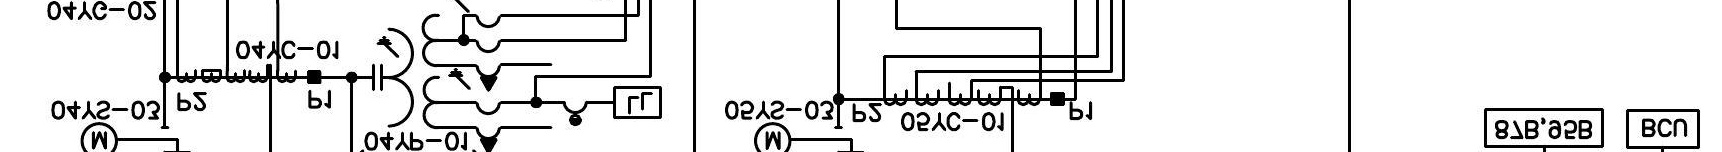BCU: (1625, 108, 1701, 150)
LL: (613, 85, 662, 120)
